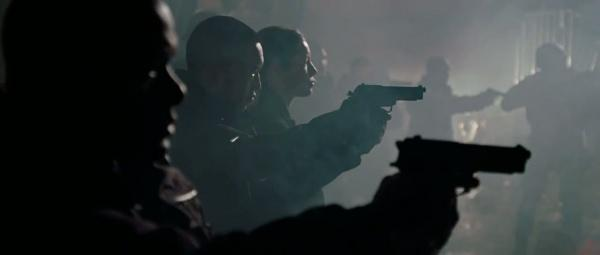Gun: (393, 134, 531, 186), (348, 83, 426, 111)
